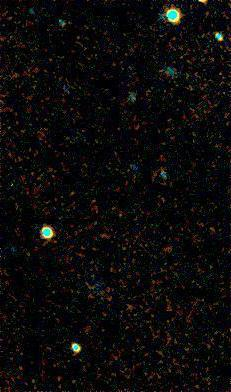star: (104, 197, 134, 227)
